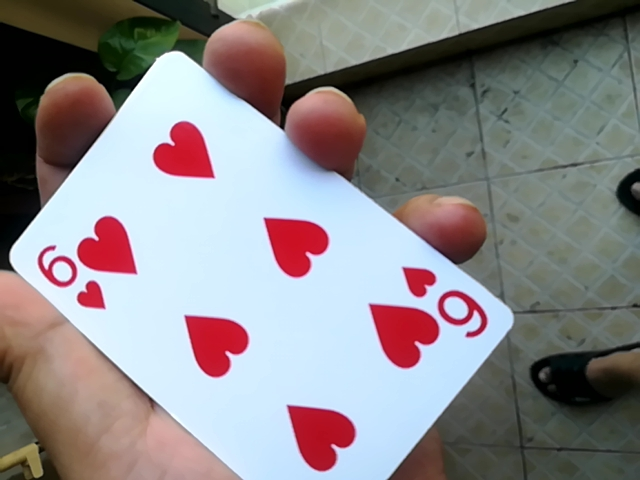hx 6: (11, 50, 498, 479)
